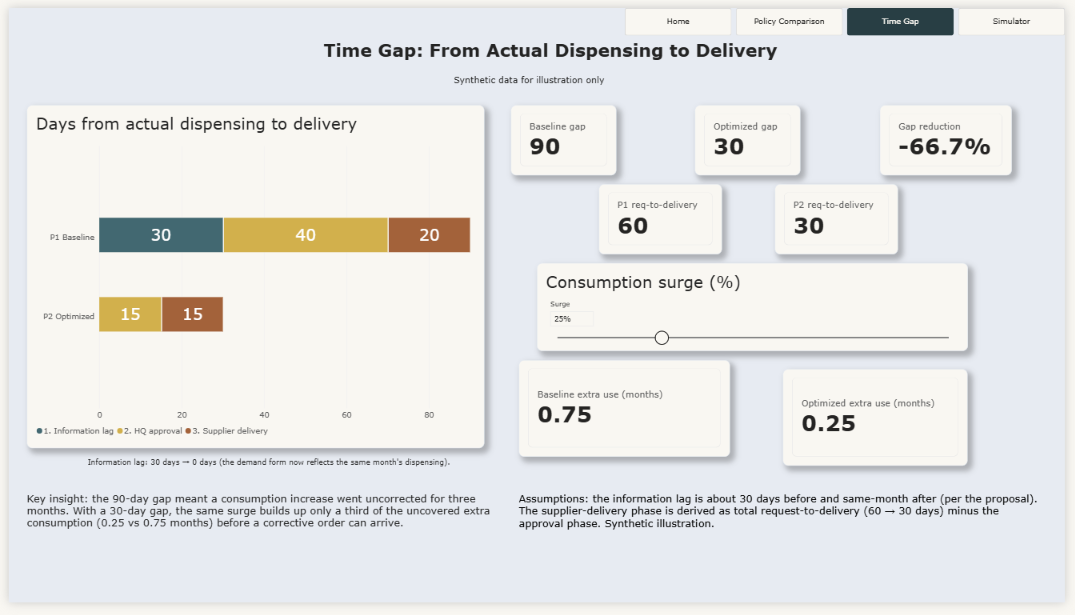

This screenshot's page, from the dashboard's own definition file:
{"tool":"powerbi","page":{"name":"Time Gap","canvas":[1920,1080],"ordinal":2},"visuals":[{"type":"textbox","box":[553.6,56,864,64],"z":0},{"type":"textbox","box":[809.6,120,304,48],"z":1000},{"type":"barChart","title":"Days from actual dispensing to delivery","fields":{"Category":["Gap_Phases.Policy"],"Series":["Gap_Phases.Phase"],"Y":["Sum(Gap_Phases.Days)"]},"box":[32,176,832,624],"z":2000},{"type":"cardVisual","fields":{"Data":["Gap_Phases.P1 Gap Days"]},"box":[912,176,192,128],"z":3000},{"type":"cardVisual","fields":{"Data":["Gap_Phases.P2 Gap Days"]},"box":[1248,176,192,128],"z":4000},{"type":"cardVisual","fields":{"Data":["Gap_Phases.Gap Change %"]},"box":[1584,176,240,128],"z":5000},{"type":"cardVisual","fields":{"Data":["Gap_Phases.P1 Request-to-Delivery"]},"box":[1072,320,224,128],"z":6000},{"type":"cardVisual","fields":{"Data":["Gap_Phases.P2 Request-to-Delivery"]},"box":[1392,320,224,128],"z":7000},{"type":"slicer","title":"Consumption surge (%)","fields":{"Values":["Surge.Surge"]},"box":[960,464,784,160],"z":8000},{"type":"cardVisual","fields":{"Data":["Gap_Phases.P1 Extra Consumption (months)"]},"box":[928,640,384,176],"z":9000},{"type":"cardVisual","fields":{"Data":["Gap_Phases.P2 Extra Consumption (months)"]},"box":[1408,656,336,176],"z":10000},{"type":"textbox","box":[928,880,944,96],"z":11000},{"type":"textbox","box":[32,880,880,96],"z":12000},{"type":"textbox","box":[144,816,720,32],"z":13000},{"type":"pageNavigator","box":[1120,0,800,50],"z":13001}]}

Visuals, with their boxes in screenshot pixels (x1, y1, x2, y2), scaled from the page's 1920x1080 canvas onto the 1075x615 screenshot:
textbox: locate(310, 32, 794, 68)
textbox: locate(453, 68, 624, 96)
"Days from actual dispensing to delivery" barChart: locate(18, 100, 484, 456)
cardVisual - Gap_Phases.P1 Gap Days: locate(511, 100, 618, 173)
cardVisual - Gap_Phases.P2 Gap Days: locate(699, 100, 806, 173)
cardVisual - Gap_Phases.Gap Change %: locate(887, 100, 1021, 173)
cardVisual - Gap_Phases.P1 Request-to-Delivery: locate(600, 182, 726, 255)
cardVisual - Gap_Phases.P2 Request-to-Delivery: locate(779, 182, 905, 255)
"Consumption surge (%)" slicer: locate(538, 264, 976, 355)
cardVisual - Gap_Phases.P1 Extra Consumption (months): locate(520, 364, 735, 465)
cardVisual - Gap_Phases.P2 Extra Consumption (months): locate(788, 374, 976, 474)
textbox: locate(520, 501, 1048, 556)
textbox: locate(18, 501, 511, 556)
textbox: locate(81, 465, 484, 483)
pageNavigator: locate(627, 0, 1074, 28)
